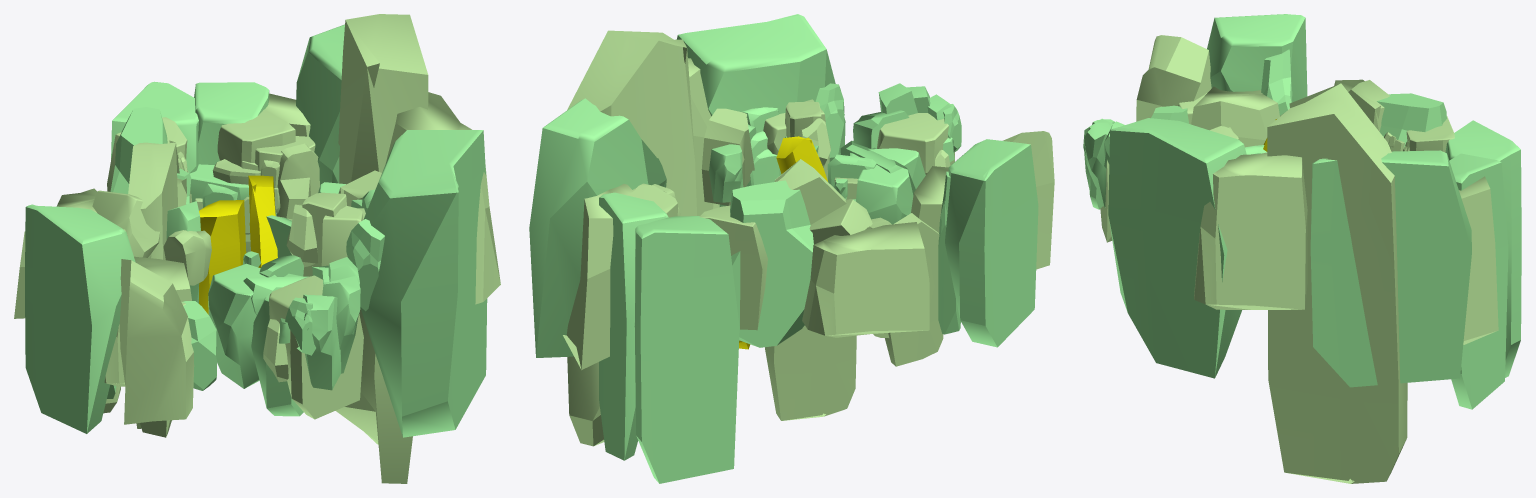
3 renders of one model, left to right at view 1: azimuth 30°, elevation 25°; view 2: azimuth 150°, elevation 25°; view 3: azimuth 270°, elevation 25°, orthographic. The views are drawn at different scales.
Visible parts, largest first — view 1: pasted__pasted__pasted__R5B4, pasted__R5B4, pasted__pasted__pasted__pasted__R4B25, pasted__R3B15, pasted__pasted__R5B4, pasted__pasted__pasted__R5B8, pasted__pasted__pasted__R5B6, pasted__pasted__pasted__HardRock_42_1, pasted__pasted__pasted__R4B25, pasted__R5B8, pasted__pasted__pasted__pasted__R4B27, pasted__R5B16 (+30 smaller); view 2: pasted__R5B16, pasted__pasted__R5B4, pasted__R5B4, pasted__pasted__pasted__pasted__R4B25, pasted__pasted__HardRock_42_, pasted__pasted__pasted__R5B4, pasted__pasted__HardRock_01_2, pasted__pasted__pasted__R4B25, pasted__R5B8, pasted__pasted__pasted__HardRock_42_, R5B13, pasted__pasted__R4B25 (+22 smaller); view 3: pasted__pasted__pasted__pasted__R4B25, pasted__pasted__R5B4, pasted__pasted__pasted__R5B4, pasted__pasted__pasted__HardRock_42_1, pasted__R5B4, pasted__R5B8, pasted__R5B16, pasted__pasted__pasted__HardRock_42_, pasted__R3B15, pasted__HardRock_42_, pasted__pasted__HardRock_01_2, pasted__HardRock_01_1 (+5 smaller).
Part boxes in pixels (bbox=[...]): pasted__pasted__pasted__R5B4: bbox=[360, 130, 487, 437]; pasted__R5B4: bbox=[25, 204, 135, 433]; pasted__pasted__pasted__pasted__R4B25: bbox=[335, 14, 428, 483]; pasted__R3B15: bbox=[119, 259, 194, 424]; pasted__pasted__R5B4: bbox=[296, 24, 344, 185]; pasted__pasted__pasted__R5B8: bbox=[269, 275, 363, 419]; pasted__pasted__pasted__R5B6: bbox=[208, 263, 276, 388]; pasted__pasted__pasted__HardRock_42_1: bbox=[386, 92, 500, 304]; pasted__pasted__pasted__R4B25: bbox=[128, 140, 179, 428]; pasted__R5B8: bbox=[194, 82, 269, 303]; pasted__pasted__pasted__pasted__R4B27: bbox=[199, 200, 246, 314]; pasted__R5B16: bbox=[111, 81, 198, 173]; pasted__R5B16: bbox=[634, 216, 739, 483]; pasted__pasted__R5B4: bbox=[529, 98, 666, 357]; pasted__R5B4: bbox=[945, 139, 1038, 347]; pasted__pasted__pasted__pasted__R4B25: bbox=[567, 30, 696, 446]; pasted__pasted__HardRock_42_: bbox=[802, 222, 929, 337]; pasted__pasted__pasted__R5B4: bbox=[676, 14, 845, 206]; pasted__pasted__HardRock_01_2: bbox=[730, 180, 813, 347]; pasted__pasted__pasted__R4B25: bbox=[765, 159, 856, 420]; pasted__R5B8: bbox=[599, 192, 668, 460]; pasted__pasted__pasted__HardRock_42_: bbox=[563, 184, 632, 369]; R5B13: bbox=[699, 205, 767, 330]; pasted__pasted__R4B25: bbox=[885, 213, 943, 366]; pasted__pasted__pasted__pasted__R4B25: bbox=[1267, 83, 1407, 483]; pasted__pasted__R5B4: bbox=[1310, 150, 1471, 387]; pasted__pasted__pasted__R5B4: bbox=[1108, 118, 1246, 378]; pasted__pasted__pasted__HardRock_42_1: bbox=[1194, 152, 1307, 309]; pasted__R5B4: bbox=[1207, 14, 1307, 101]; pasted__R5B8: bbox=[1449, 153, 1508, 409]; pasted__R5B16: bbox=[1445, 120, 1521, 377]; pasted__pasted__pasted__HardRock_42_: bbox=[1459, 176, 1498, 344]; pasted__R3B15: bbox=[1136, 35, 1211, 121]; pasted__HardRock_42_: bbox=[1191, 86, 1279, 147]; pasted__pasted__HardRock_01_2: bbox=[1377, 93, 1446, 147]; pasted__HardRock_01_1: bbox=[1261, 49, 1292, 115].
Bounding box in the file's own units: 28796 × 29352 × 30623.
